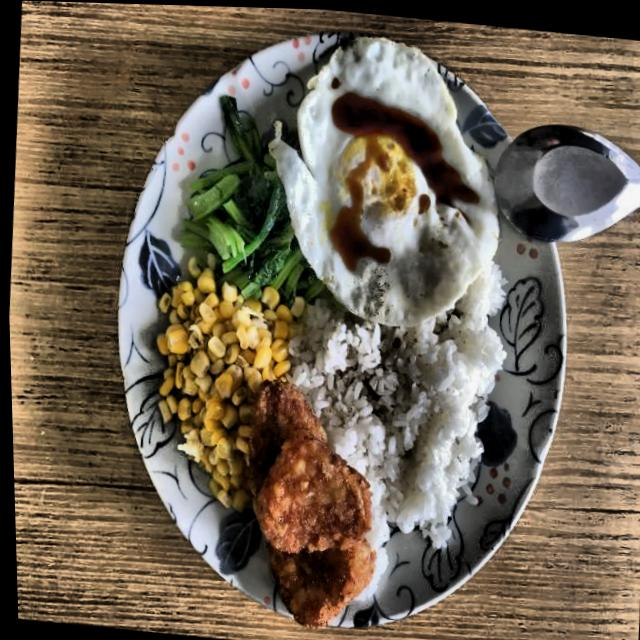Food: (271, 24, 506, 334), (233, 376, 385, 631), (312, 317, 505, 512), (184, 113, 327, 309)
